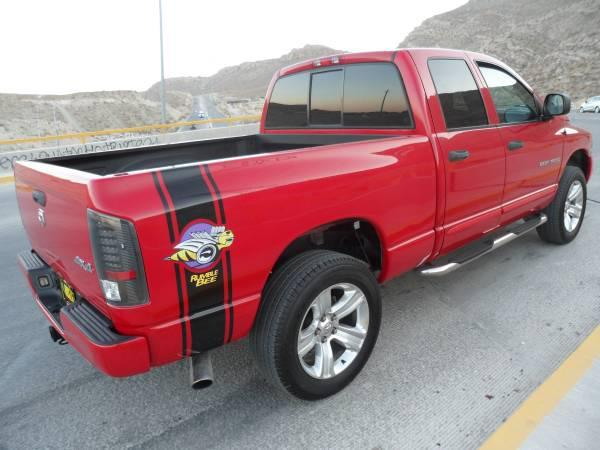Front_Right_Door: (500, 123, 560, 225)
Front_Right_Window: (471, 61, 553, 126)
Rear_Bumper: (20, 254, 152, 375)
Rear_Fender: (89, 133, 439, 363)
Rear_Right_Door: (431, 128, 502, 257)
Rear_Right_Window: (424, 55, 493, 128)
Rear_Windshield: (255, 53, 427, 140)
Right_Taillight: (88, 207, 150, 308)
Roof: (401, 49, 509, 137)
Tailgate: (14, 161, 107, 316)
Wheel: (253, 254, 386, 402), (549, 172, 586, 247)
